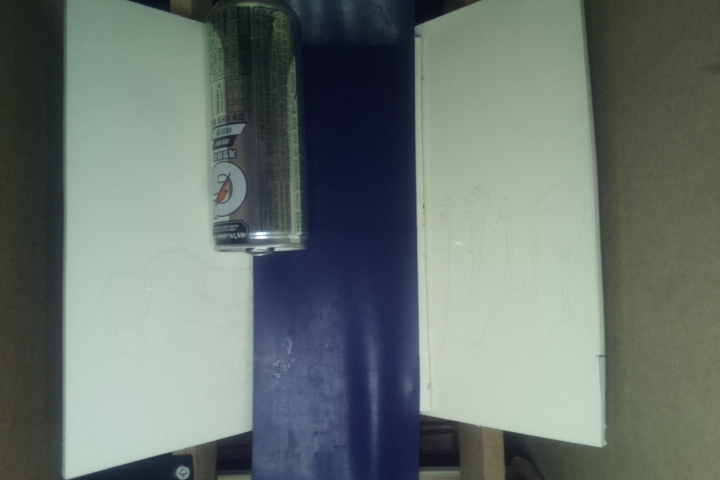can: (207, 1, 301, 260)
